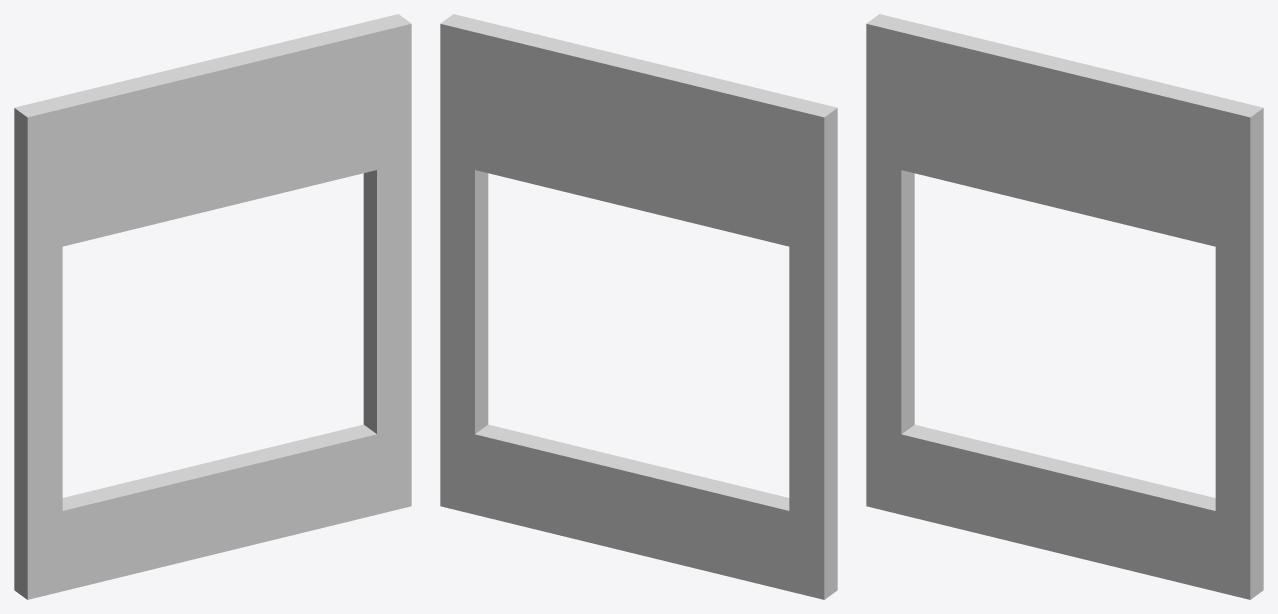
Rendered from Wall1_C1_05.fbx.
3 views of the same model, side by side, from view 1: azimuth 30°, elevation 25°; view 2: azimuth 150°, elevation 25°; view 3: azimuth 330°, elevation 25° (orthographic).
Visible parts, largest first — view 1: Wall1_C1_05; view 2: Wall1_C1_05; view 3: Wall1_C1_05.
Boxes of the visible parts, box(x1,y1,x2,y2) form: Wall1_C1_05: box(14, 14, 411, 599); Wall1_C1_05: box(440, 14, 837, 599); Wall1_C1_05: box(866, 14, 1263, 599).
Size of the model in its own units: 250 by 300 by 15.
